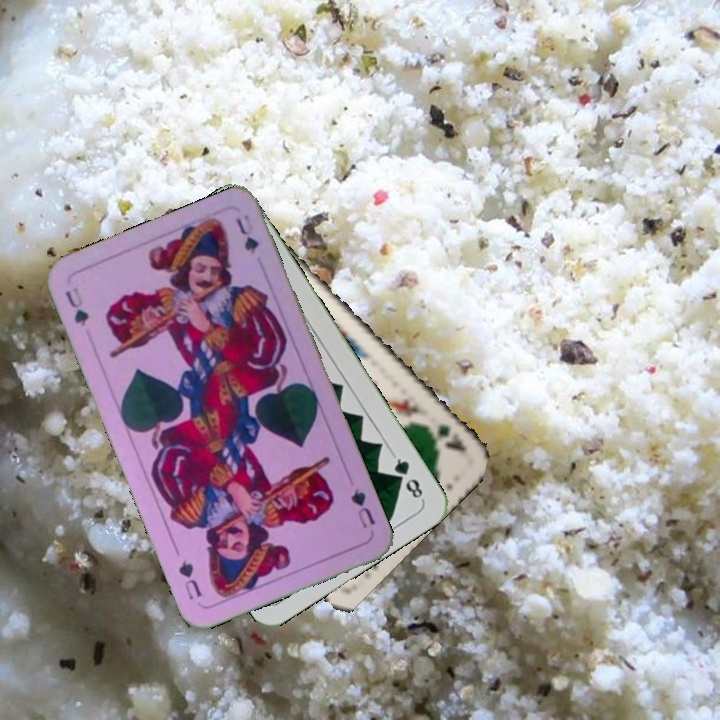G8: (388, 450, 426, 503)
GK: (419, 419, 471, 457)
GU: (346, 484, 378, 531), (61, 283, 91, 329)
